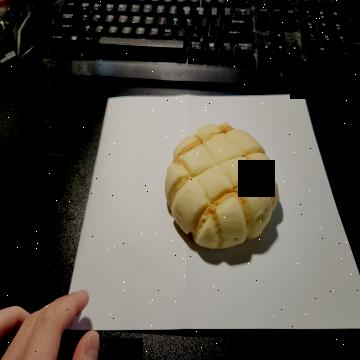melon_bread: (165, 123, 280, 250)
